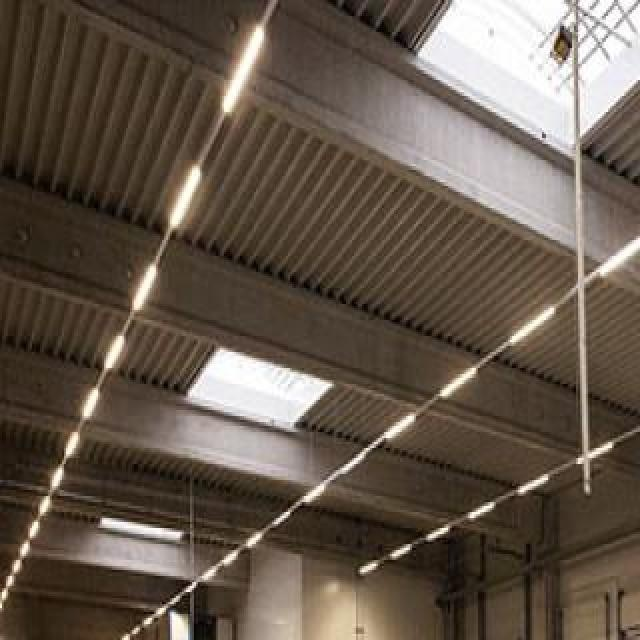fluorescent tube: (214, 13, 271, 122), (158, 162, 211, 238), (588, 218, 640, 288), (505, 300, 562, 353), (120, 260, 164, 315), (573, 424, 623, 471), (505, 471, 575, 504), (420, 512, 478, 544), (369, 409, 420, 444), (98, 334, 135, 374), (462, 491, 505, 525), (440, 363, 476, 401), (386, 531, 418, 571), (72, 386, 112, 418), (294, 478, 326, 515), (44, 462, 78, 491), (61, 420, 83, 462), (352, 558, 384, 580), (249, 531, 267, 554), (191, 567, 218, 582)
